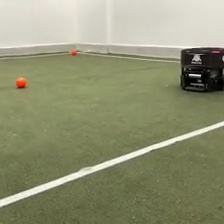ball: (14, 75, 28, 89), (70, 47, 78, 56)
robot: (177, 45, 224, 95)
